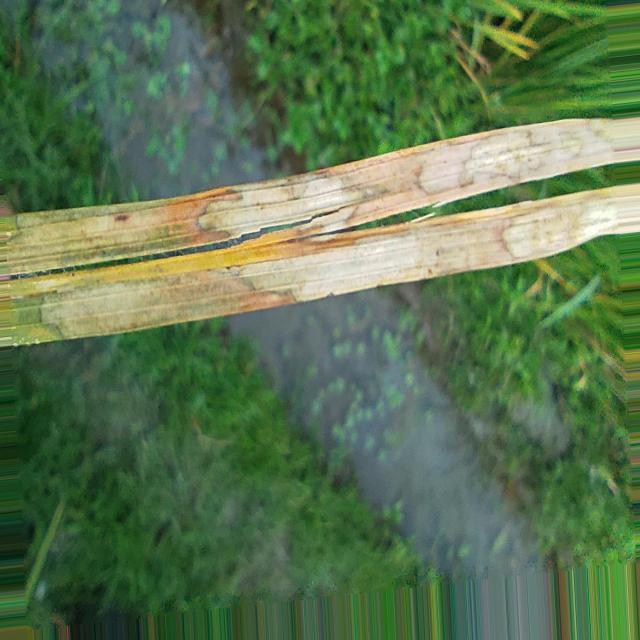Brown_Spot: (114, 210, 130, 222)
Rice False Smut: (241, 232, 449, 302), (411, 120, 592, 197), (198, 177, 344, 234), (502, 200, 618, 259)
